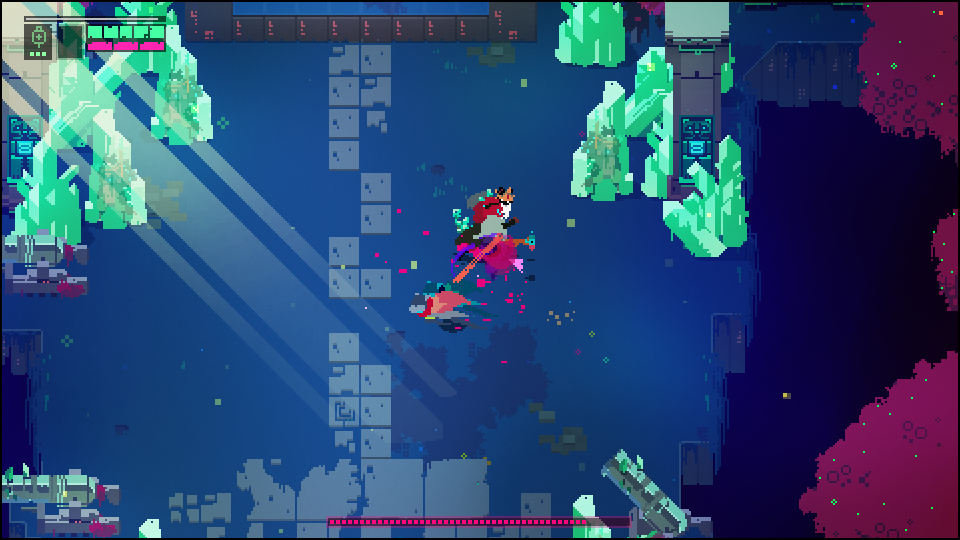hanged_man: (446, 183, 528, 255)
player: (405, 288, 473, 327)
